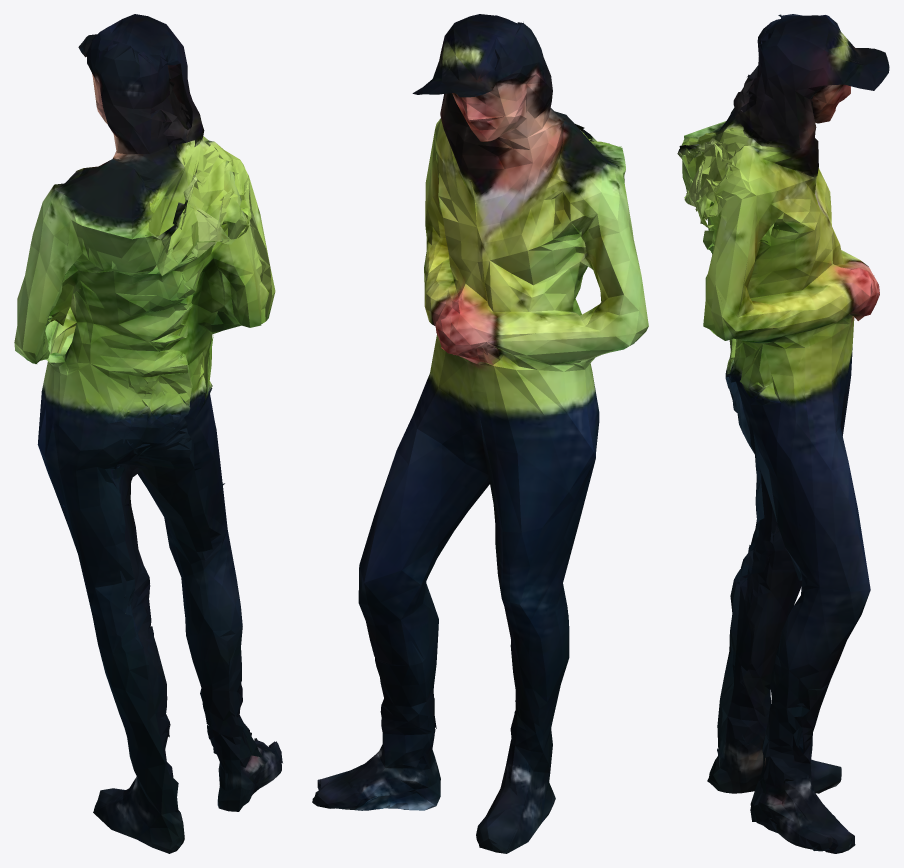
3 renders of one model, left to right at view 1: azimuth 30°, elevation 25°; view 2: azimuth 150°, elevation 25°; view 3: azimuth 270°, elevation 25°, orthographic. The views are drawn at different scales.
Visible parts, largest first — view 1: dec_0013; view 2: dec_0013; view 3: dec_0013.
Boxes of the visible parts, x1,y1,x2,y2 form: dec_0013: [14, 14, 282, 853]; dec_0013: [312, 14, 648, 853]; dec_0013: [677, 14, 889, 853].
Bounding box in the file's own units: 0.6683 × 1.76 × 0.4356.
Materials: 1 (1 with a texture image).
